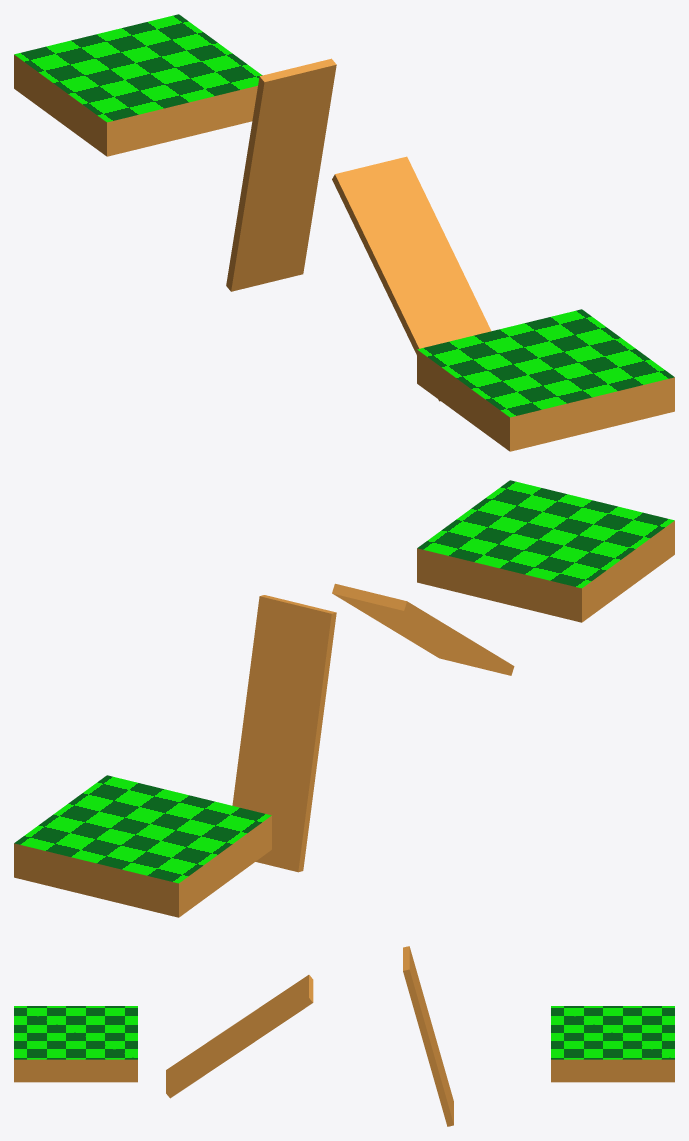
File: rotating-ramp-up.glb
3 views of the same model, one above another, from view 1: azimuth 30°, elevation 25°; view 2: azimuth 150°, elevation 25°; view 3: azimuth 270°, elevation 25° (orthographic). The views are drawn at different scales.
Visible parts, largest first — view 1: Cube, Cube.001, Cube.003, Cube.002; view 2: Cube, Cube.001, Cube.003, Cube.002; view 3: Cube, Cube.001, Cube.002, Cube.003.
Boxes of the visible parts, x1=… form: Cube: x1=417, y1=309, x2=674, y2=451; Cube.001: x1=14, y1=14, x2=262, y2=156; Cube.003: x1=226, y1=58, x2=336, y2=291; Cube.002: x1=332, y1=156, x2=491, y2=401; Cube: x1=417, y1=480, x2=674, y2=622; Cube.001: x1=14, y1=775, x2=271, y2=917; Cube.003: x1=232, y1=595, x2=336, y2=872; Cube.002: x1=332, y1=583, x2=514, y2=675; Cube: x1=14, y1=1006, x2=137, y2=1082; Cube.001: x1=551, y1=1006, x2=674, y2=1082; Cube.002: x1=166, y1=975, x2=313, y2=1098; Cube.003: x1=403, y1=946, x2=453, y2=1126.
Size of the model in its own units: 12.09 by 16.56 by 62.99.
2 materials, 2 textured.
